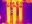Hotspot: (16, 2, 23, 23), (12, 7, 16, 24), (7, 7, 10, 24), (4, 0, 12, 6), (12, 0, 22, 4)
